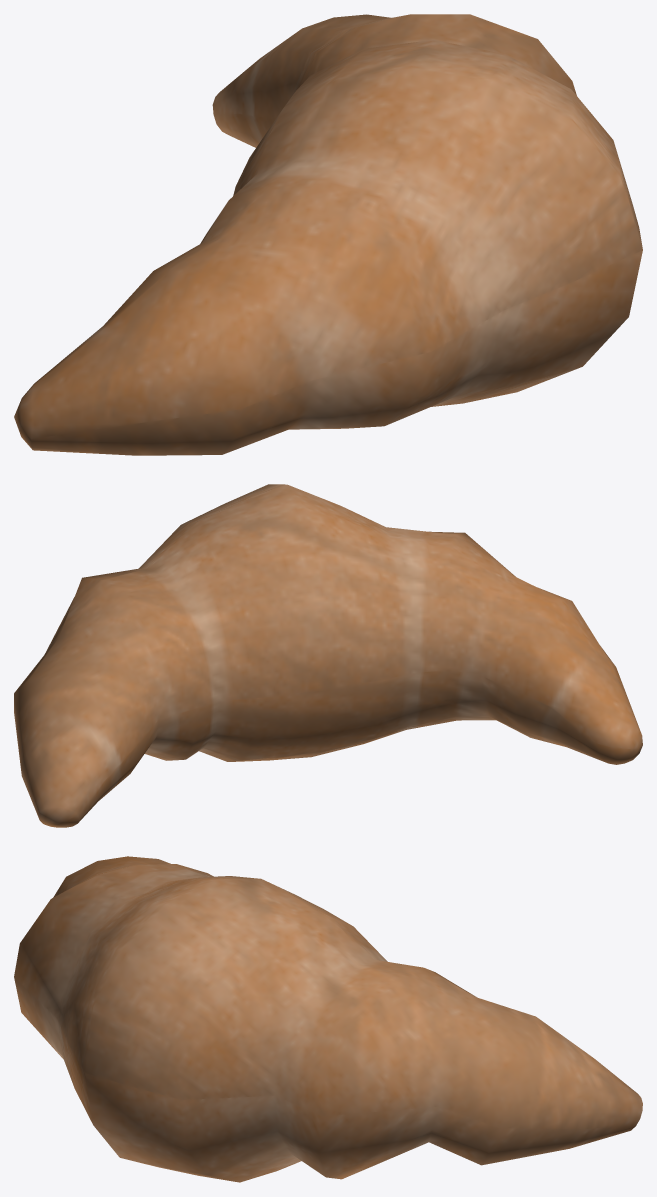
The model's file is tort3.fbx.
3 views of the same model, one above another, from view 1: azimuth 30°, elevation 25°; view 2: azimuth 150°, elevation 25°; view 3: azimuth 270°, elevation 25° (orthographic). The views are drawn at different scales.
Parts seen in each view (by area): view 1: Cube_16_low; view 2: Cube_16_low; view 3: Cube_16_low.
Part boxes in pixels (x1,y1,x2,y2): Cube_16_low: [14, 14, 642, 455]; Cube_16_low: [14, 484, 642, 827]; Cube_16_low: [14, 856, 642, 1182].
Size of the model in its own units: 128 by 59.69 by 128.
